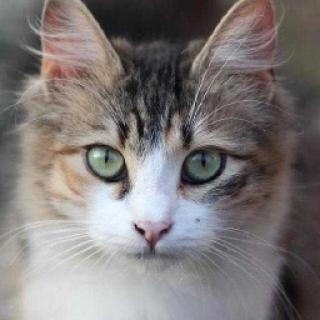cat: (34, 0, 285, 275)
nose: (126, 202, 176, 250)
